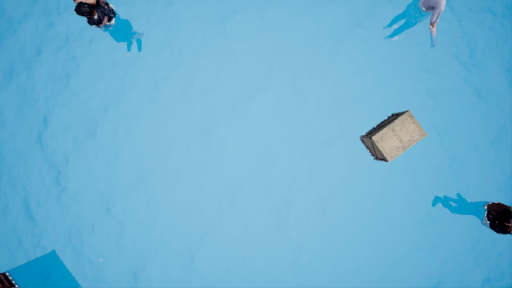person: (77, 4, 152, 62)
